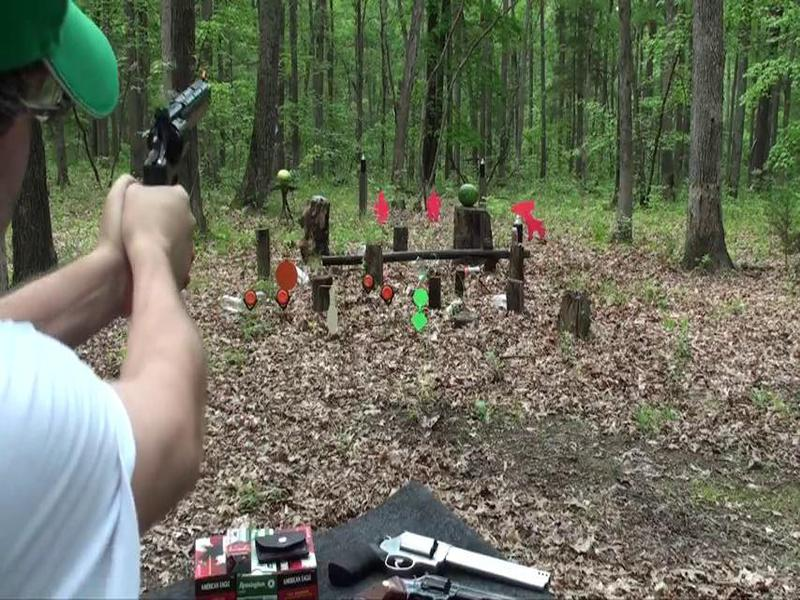Revolver: (137, 70, 217, 209)
